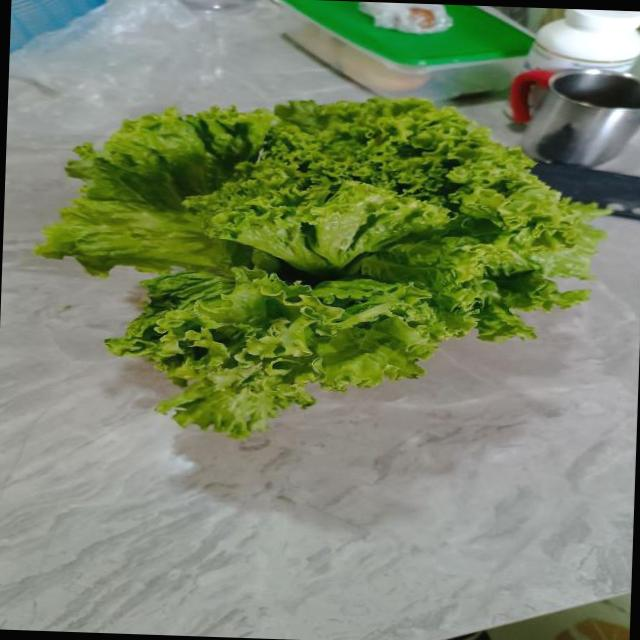Lettuce-Ready-to-Harvest: (37, 98, 602, 437)
